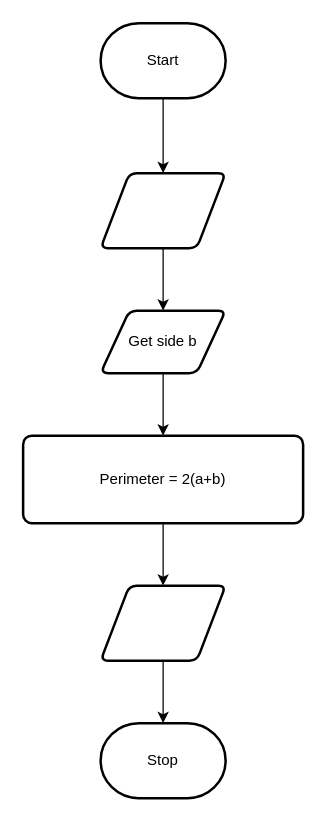
Image size: 325x820. Some labels were removed from this diagram. The shapes that lost their labels are listed below. From the top down, each one's centre as x and y in pixels, then its label:
At (x=162, y=210): "Get side a".
At (x=162, y=622): "Show perimeter".
